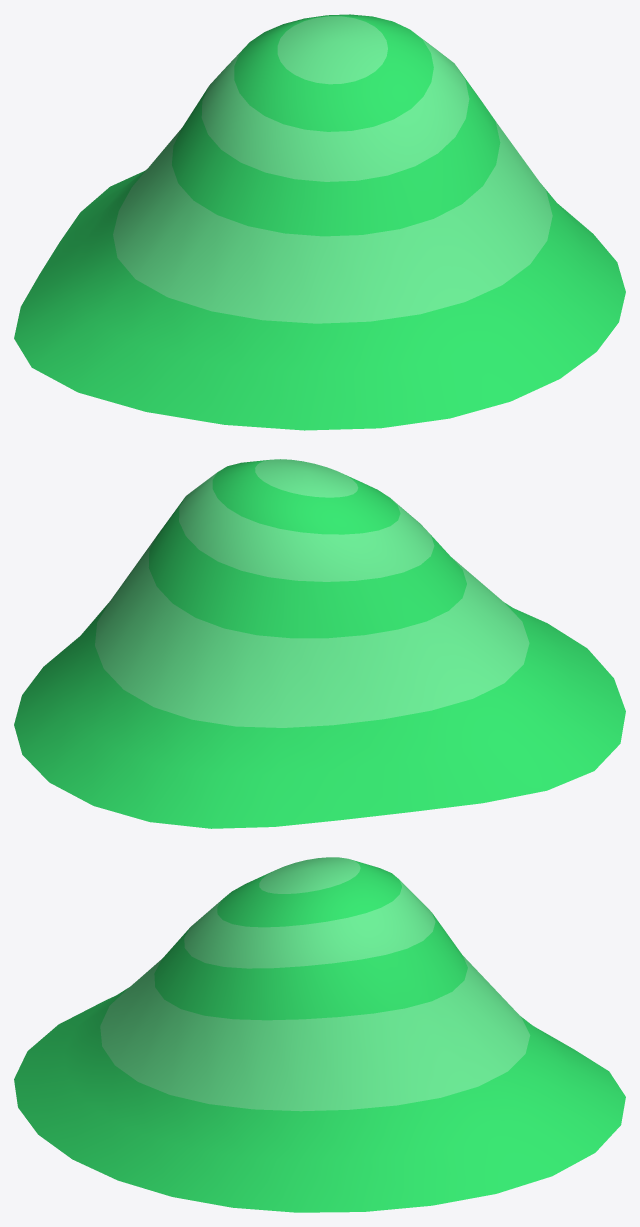
Rendered from Hill.fbx.
The picture shows the model from 3 angles, top to bottom: view 1: azimuth 30°, elevation 25°; view 2: azimuth 150°, elevation 25°; view 3: azimuth 270°, elevation 25°; orthographic projection. The views are drawn at different scales.
Visible parts, largest first — view 1: Sphere005; view 2: Sphere005; view 3: Sphere005.
Part boxes in pixels (x1,y1,x2,y2): Sphere005: (14, 14, 625, 430); Sphere005: (14, 459, 625, 828); Sphere005: (14, 857, 625, 1212).
Bounding box in the file's own units: 1483 × 638 × 1526.
